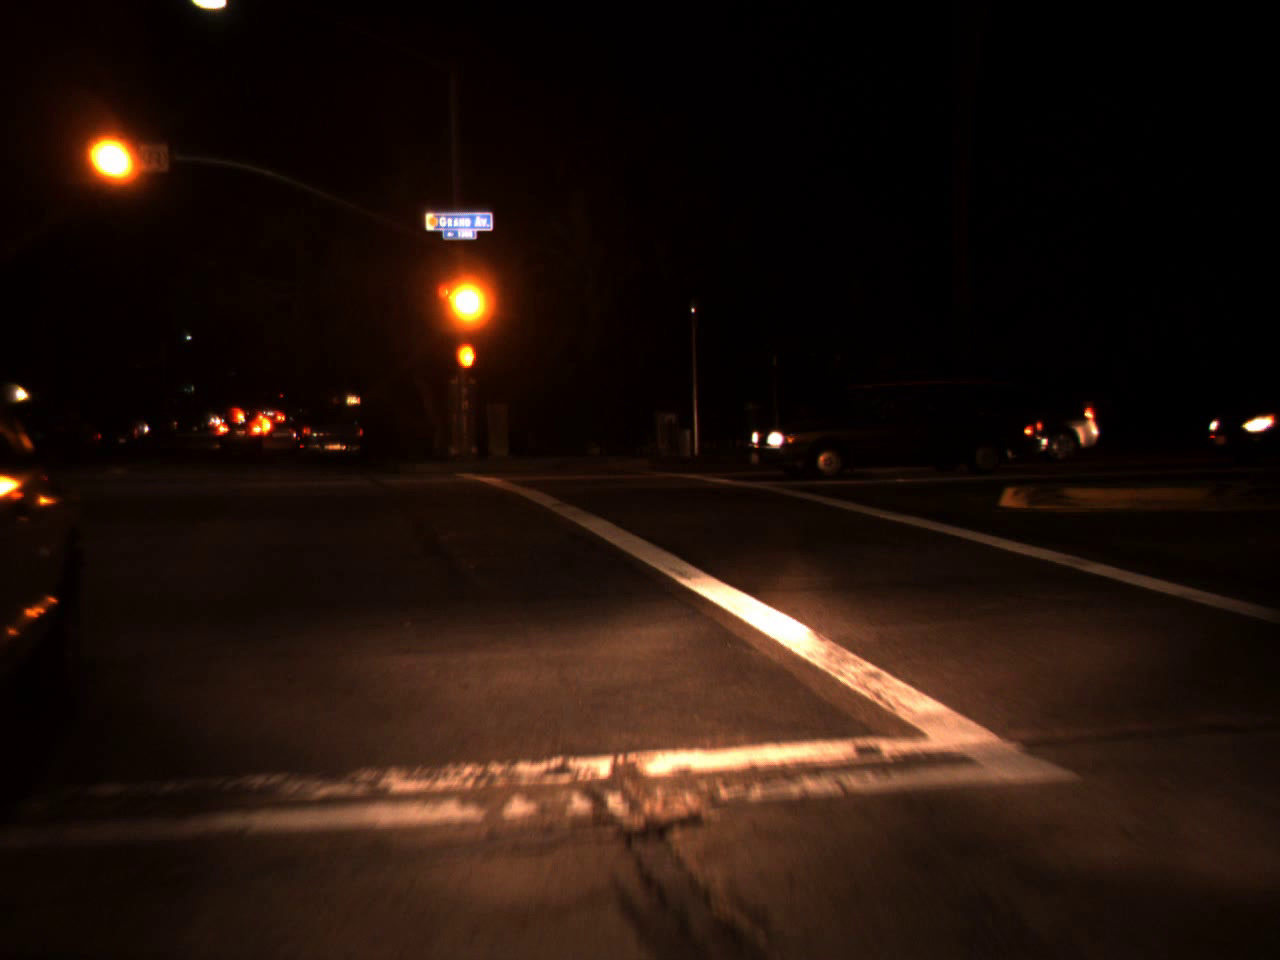warning: (449, 269, 485, 331), (95, 129, 129, 186)
